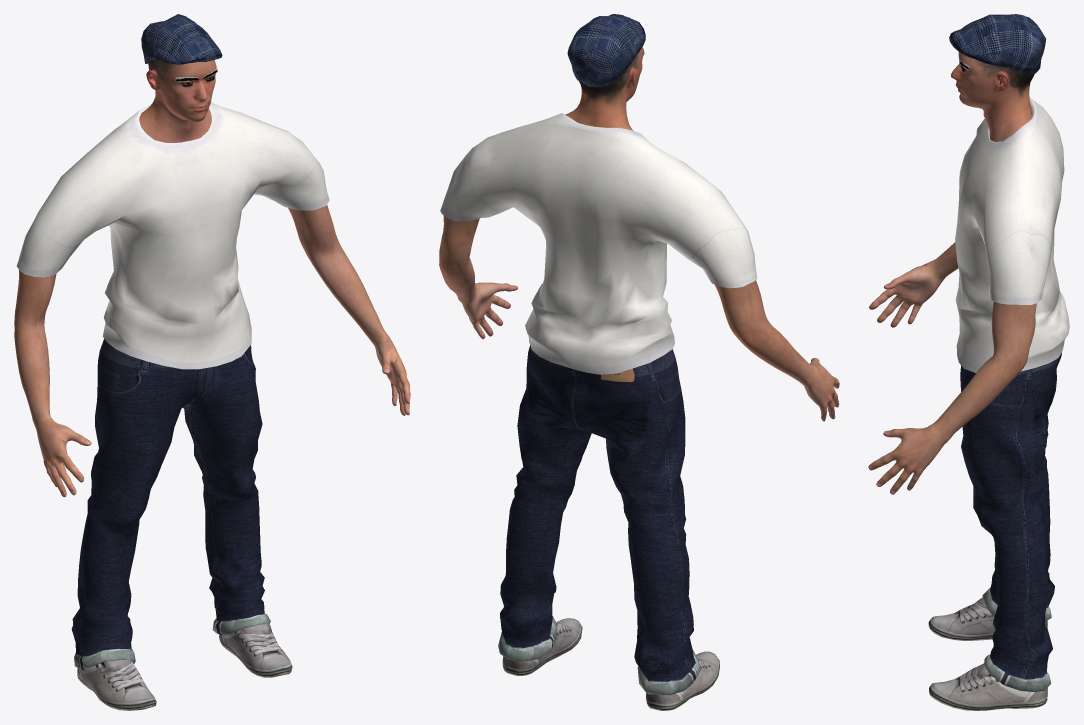
The model's file is william.glb.
3 renders of one model, left to right at view 1: azimuth 30°, elevation 25°; view 2: azimuth 150°, elevation 25°; view 3: azimuth 270°, elevation 25°, orthographic.
Visible parts, largest first — view 1: tshirt1, jean1, will, shoes1, gubbkeps1; view 2: tshirt1, jean1, will, gubbkeps1, shoes1; view 3: tshirt1, jean1, will, shoes1, gubbkeps1.
Part boxes in pixels (box(x1,y1,x2,y2)): tshirt1: box(16, 102, 329, 369); jean1: box(71, 339, 270, 670); will: box(14, 60, 410, 497); shoes1: box(77, 622, 292, 710); gubbkeps1: box(141, 14, 222, 64); tshirt1: box(440, 113, 757, 374); jean1: box(498, 345, 700, 695); will: box(439, 47, 839, 421); gubbkeps1: box(567, 14, 645, 87); shoes1: box(502, 618, 719, 710); tshirt1: box(955, 96, 1069, 372); jean1: box(960, 353, 1061, 691); will: box(868, 52, 1036, 494); shoes1: box(928, 597, 1047, 710); gubbkeps1: box(949, 14, 1046, 74).
Bounding box in the file's own units: 1.01 × 1.77 × 0.4948.
8 materials, 8 textured.
